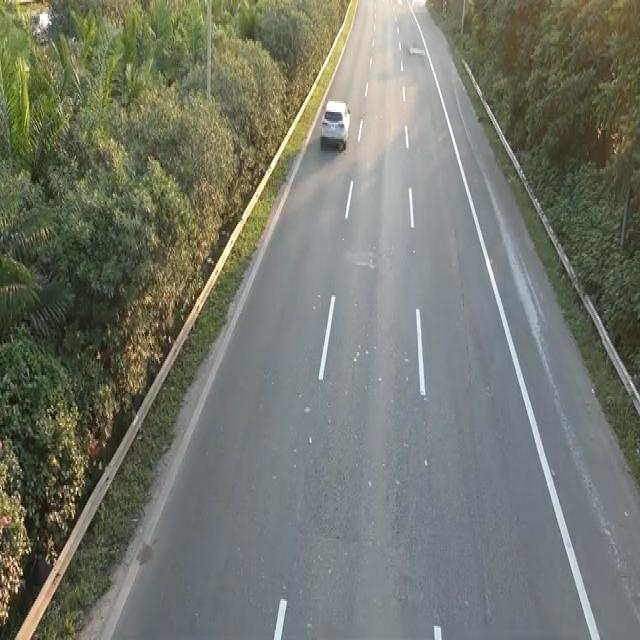car: (318, 96, 351, 151)
